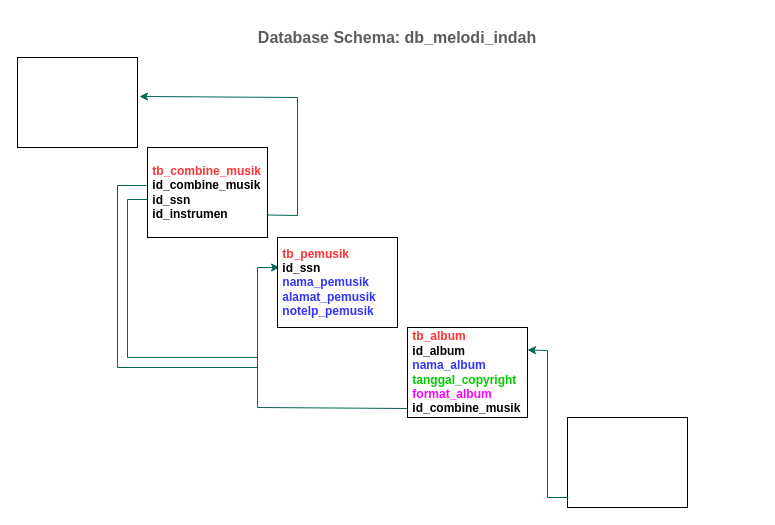
Image size: 775x525. Some labels were removed from this diagram. The centre of each missing label's shape, as x and y in pixels:
"tb_instrumen id_instrumen nama_instrumen kunci_musik" goes at pixel 77 102.
"tb_lagu id_lagu judul_lagu pengarang_lagu notelp_pemusik id_album" goes at pixel 627 462.
